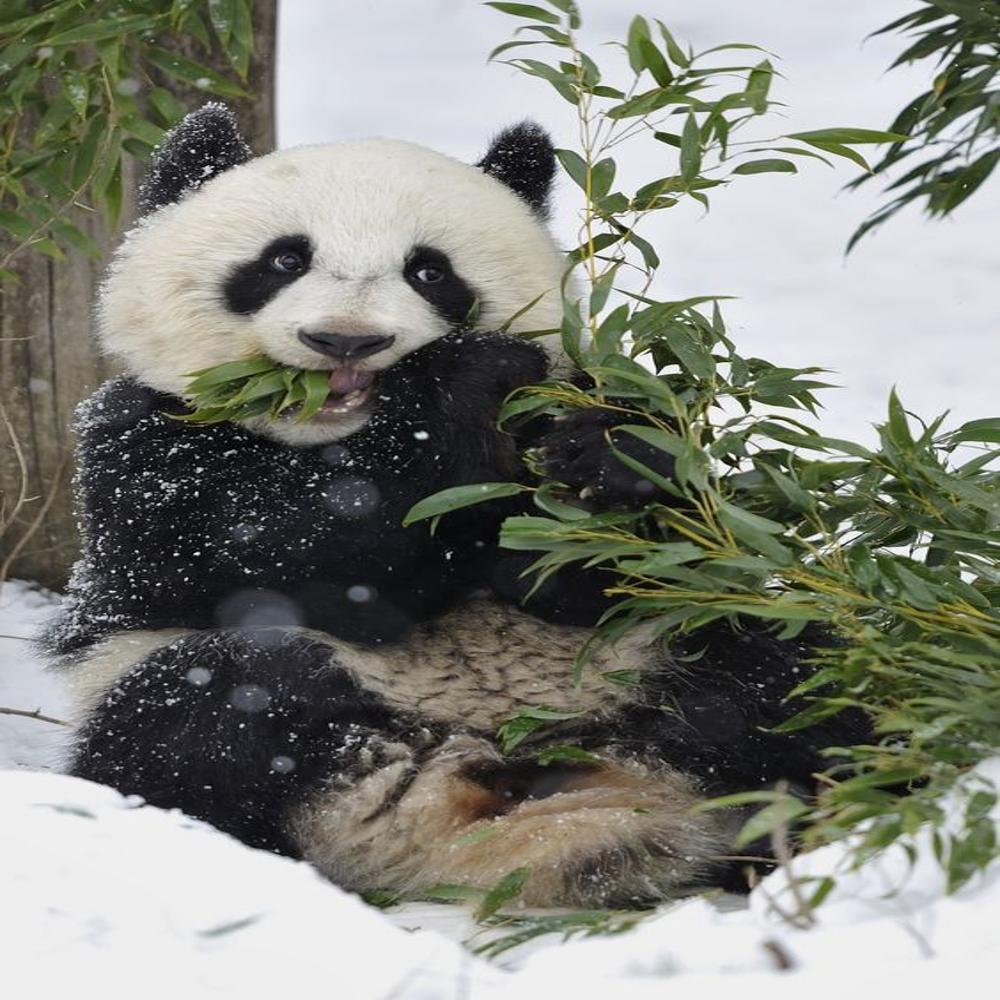panda: (72, 92, 834, 912)
